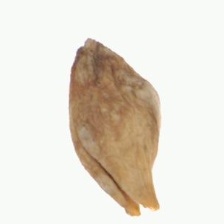L1: (72, 35, 102, 58), (127, 198, 160, 218)
L2: (67, 37, 162, 216)
